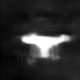plane: (18, 30, 75, 64)
